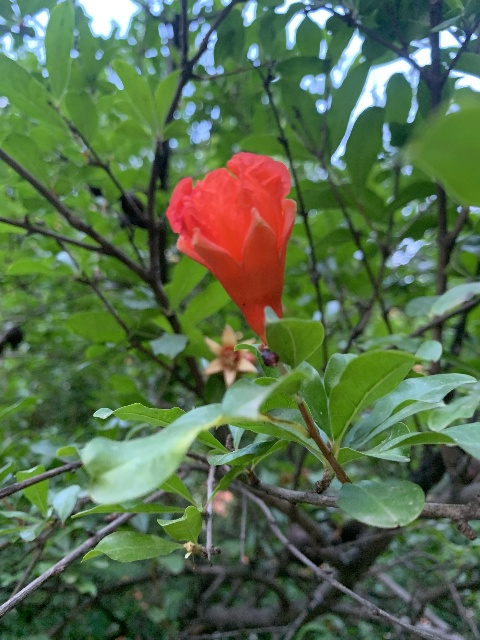early-fruit: (203, 324, 256, 389)
flower: (165, 153, 298, 344)
